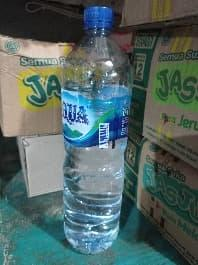Plastik: (61, 7, 133, 254)
